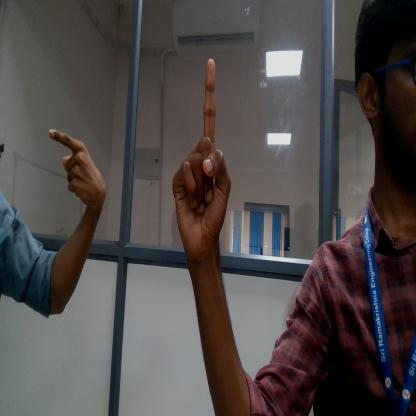Up: (163, 55, 234, 268)
